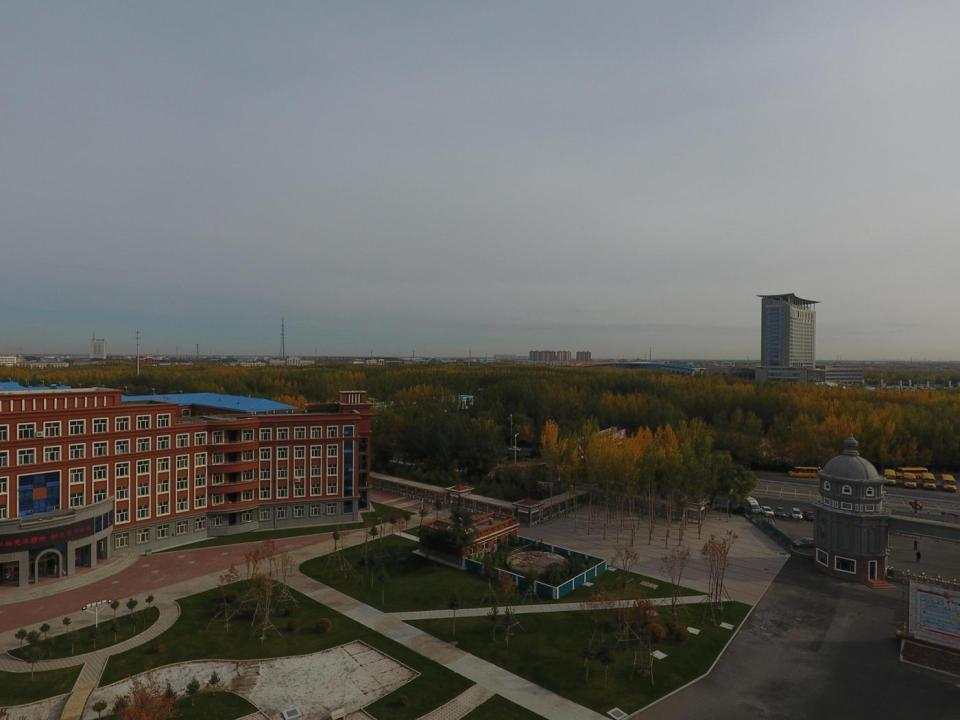bus: (896, 466, 929, 480), (788, 466, 819, 478), (940, 472, 958, 491), (902, 471, 918, 488), (921, 472, 936, 490), (883, 468, 896, 486)
car: (793, 537, 818, 548), (760, 505, 775, 517), (790, 507, 803, 520), (804, 510, 816, 522), (775, 506, 786, 518)
truck: (735, 494, 761, 515)
